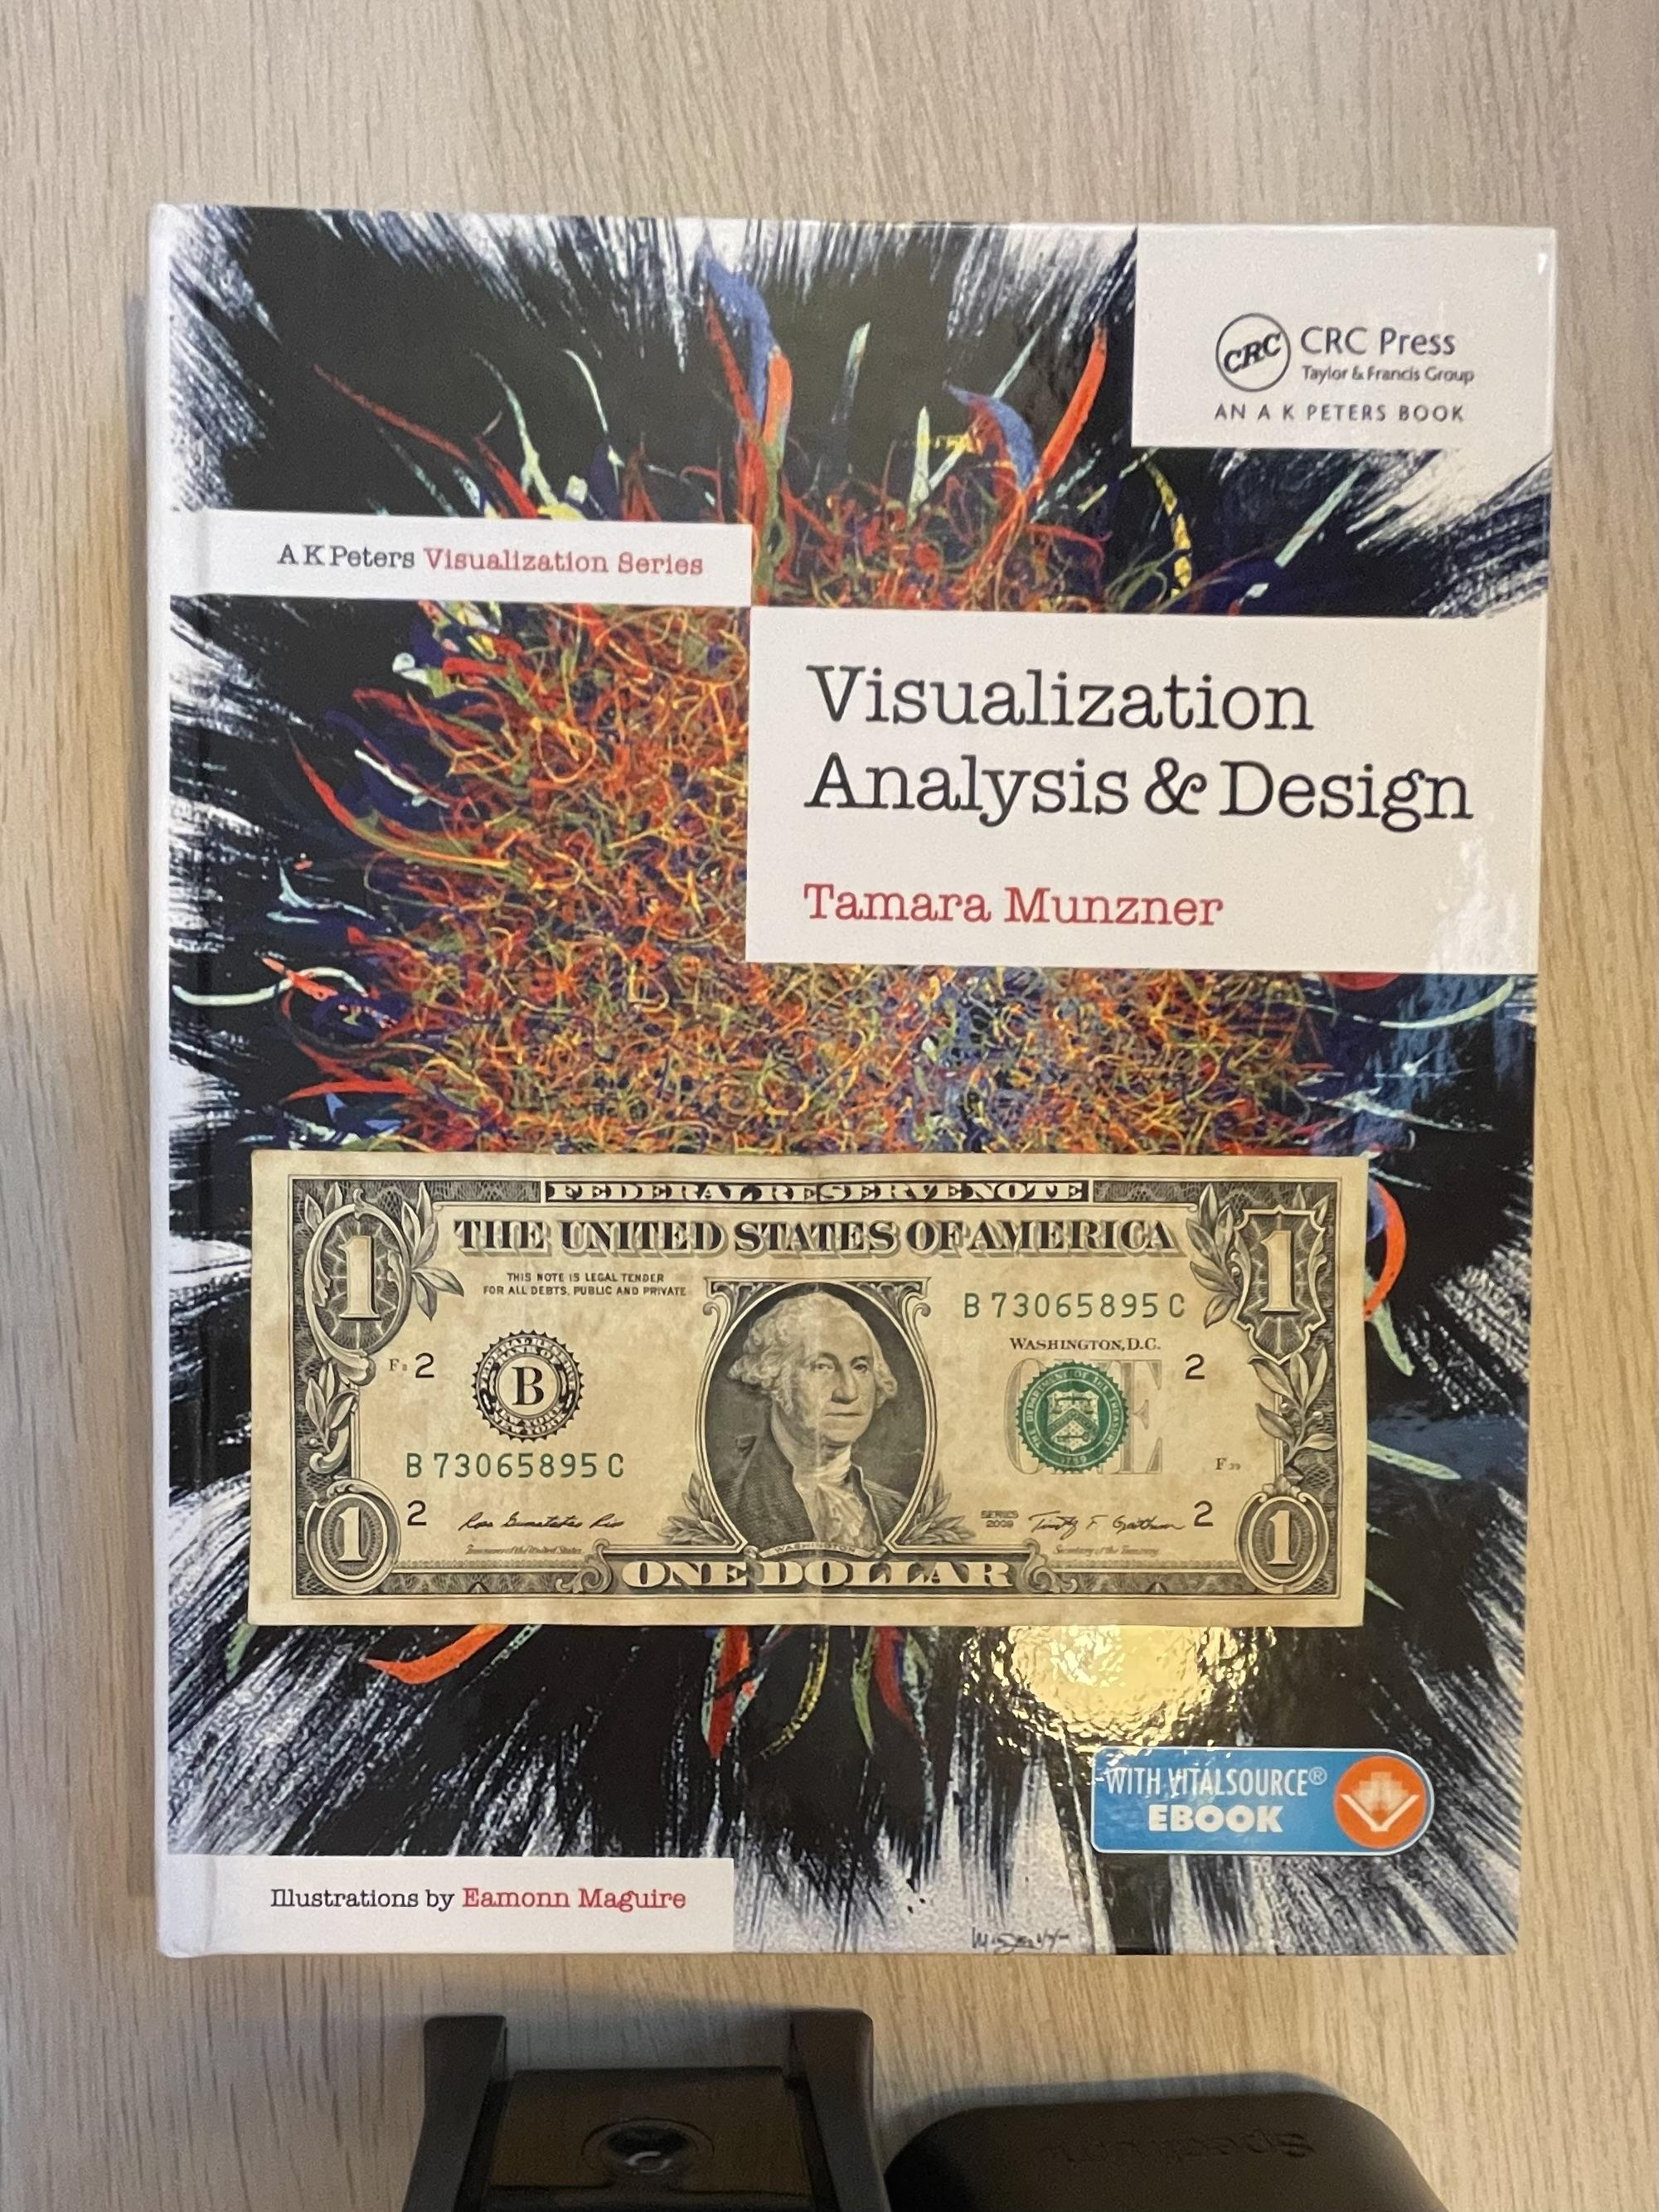OneBill: (246, 1148, 1368, 1627)
